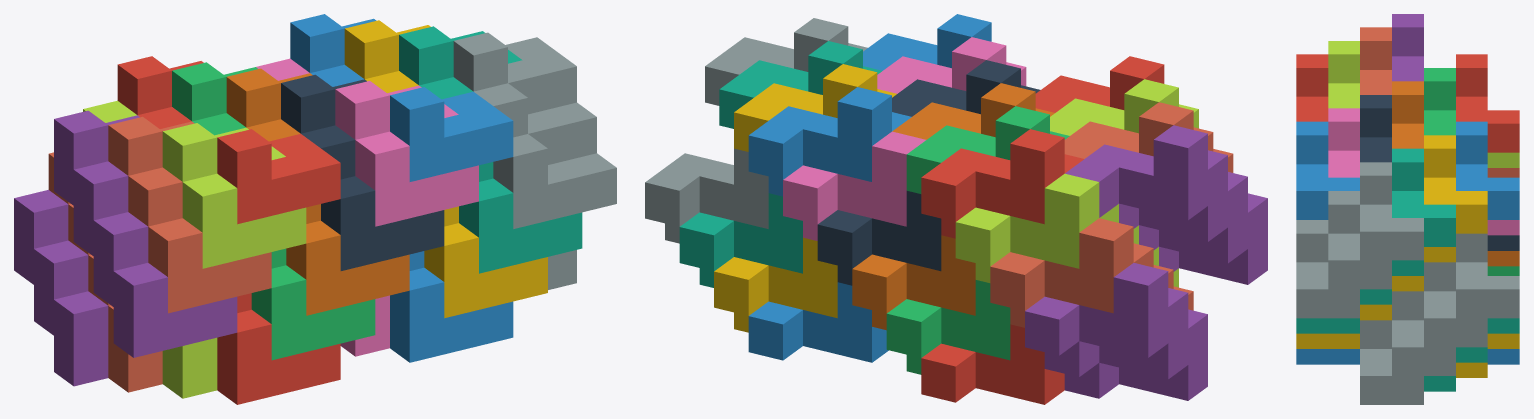
Rendered from tiling.obj.
3 renders of one model, left to right at view 1: azimuth 30°, elevation 25°; view 2: azimuth 150°, elevation 25°; view 3: azimuth 270°, elevation 25°, orthographic. The views are drawn at different scales.
Visible parts, largest first — view 1: copy_86, copy_85, copy_82, copy_77, copy_74, copy_73, copy_83, copy_58, copy_80, copy_84, copy_75, copy_81 (+34 smaller); view 2: copy_13, copy_14, copy_5, copy_41, copy_11, copy_8, copy_10, copy_12, copy_1, copy_2, copy_9, copy_3 (+20 smaller); view 3: copy_58, copy_82, copy_10, copy_70, copy_22, copy_86, copy_34, copy_46, copy_14, copy_28, copy_43, copy_13 (+28 smaller).
Boxes of the visible parts, x1=… form: copy_86: x1=390, y1=87, x2=513, y2=181; copy_85: x1=217, y1=129, x2=340, y2=224; copy_82: x1=493, y1=134, x2=616, y2=228; copy_77: x1=113, y1=263, x2=237, y2=357; copy_74: x1=390, y1=267, x2=513, y2=362; copy_73: x1=217, y1=309, x2=340, y2=404; copy_83: x1=182, y1=173, x2=306, y2=268; copy_58: x1=453, y1=32, x2=576, y2=114; copy_80: x1=148, y1=218, x2=271, y2=313; copy_84: x1=355, y1=131, x2=478, y2=226; copy_75: x1=251, y1=265, x2=375, y2=360; copy_81: x1=321, y1=176, x2=444, y2=270; copy_13: x1=921, y1=129, x2=1064, y2=224; copy_14: x1=748, y1=87, x2=891, y2=181; copy_5: x1=1025, y1=263, x2=1168, y2=357; copy_41: x1=1065, y1=125, x2=1207, y2=220; copy_11: x1=955, y1=173, x2=1099, y2=268; copy_8: x1=990, y1=218, x2=1133, y2=313; copy_10: x1=645, y1=148, x2=768, y2=228; copy_12: x1=783, y1=131, x2=925, y2=226; copy_1: x1=921, y1=324, x2=1064, y2=404; copy_2: x1=748, y1=282, x2=888, y2=362; copy_9: x1=817, y1=191, x2=941, y2=271; copy_3: x1=886, y1=280, x2=1010, y2=360; copy_58: x1=1360, y1=162, x2=1423, y2=260; copy_82: x1=1296, y1=220, x2=1359, y2=318; copy_10: x1=1456, y1=233, x2=1519, y2=318; copy_70: x1=1328, y1=191, x2=1391, y2=289; copy_22: x1=1424, y1=262, x2=1487, y2=347; copy_86: x1=1296, y1=121, x2=1359, y2=219; copy_34: x1=1392, y1=291, x2=1455, y2=375; copy_46: x1=1360, y1=320, x2=1423, y2=404; copy_14: x1=1456, y1=121, x2=1519, y2=219; copy_28: x1=1424, y1=135, x2=1487, y2=233; copy_43: x1=1392, y1=148, x2=1455, y2=246; copy_13: x1=1456, y1=54, x2=1519, y2=152.
Size of the model in its own units: 14 by 7 by 7.
